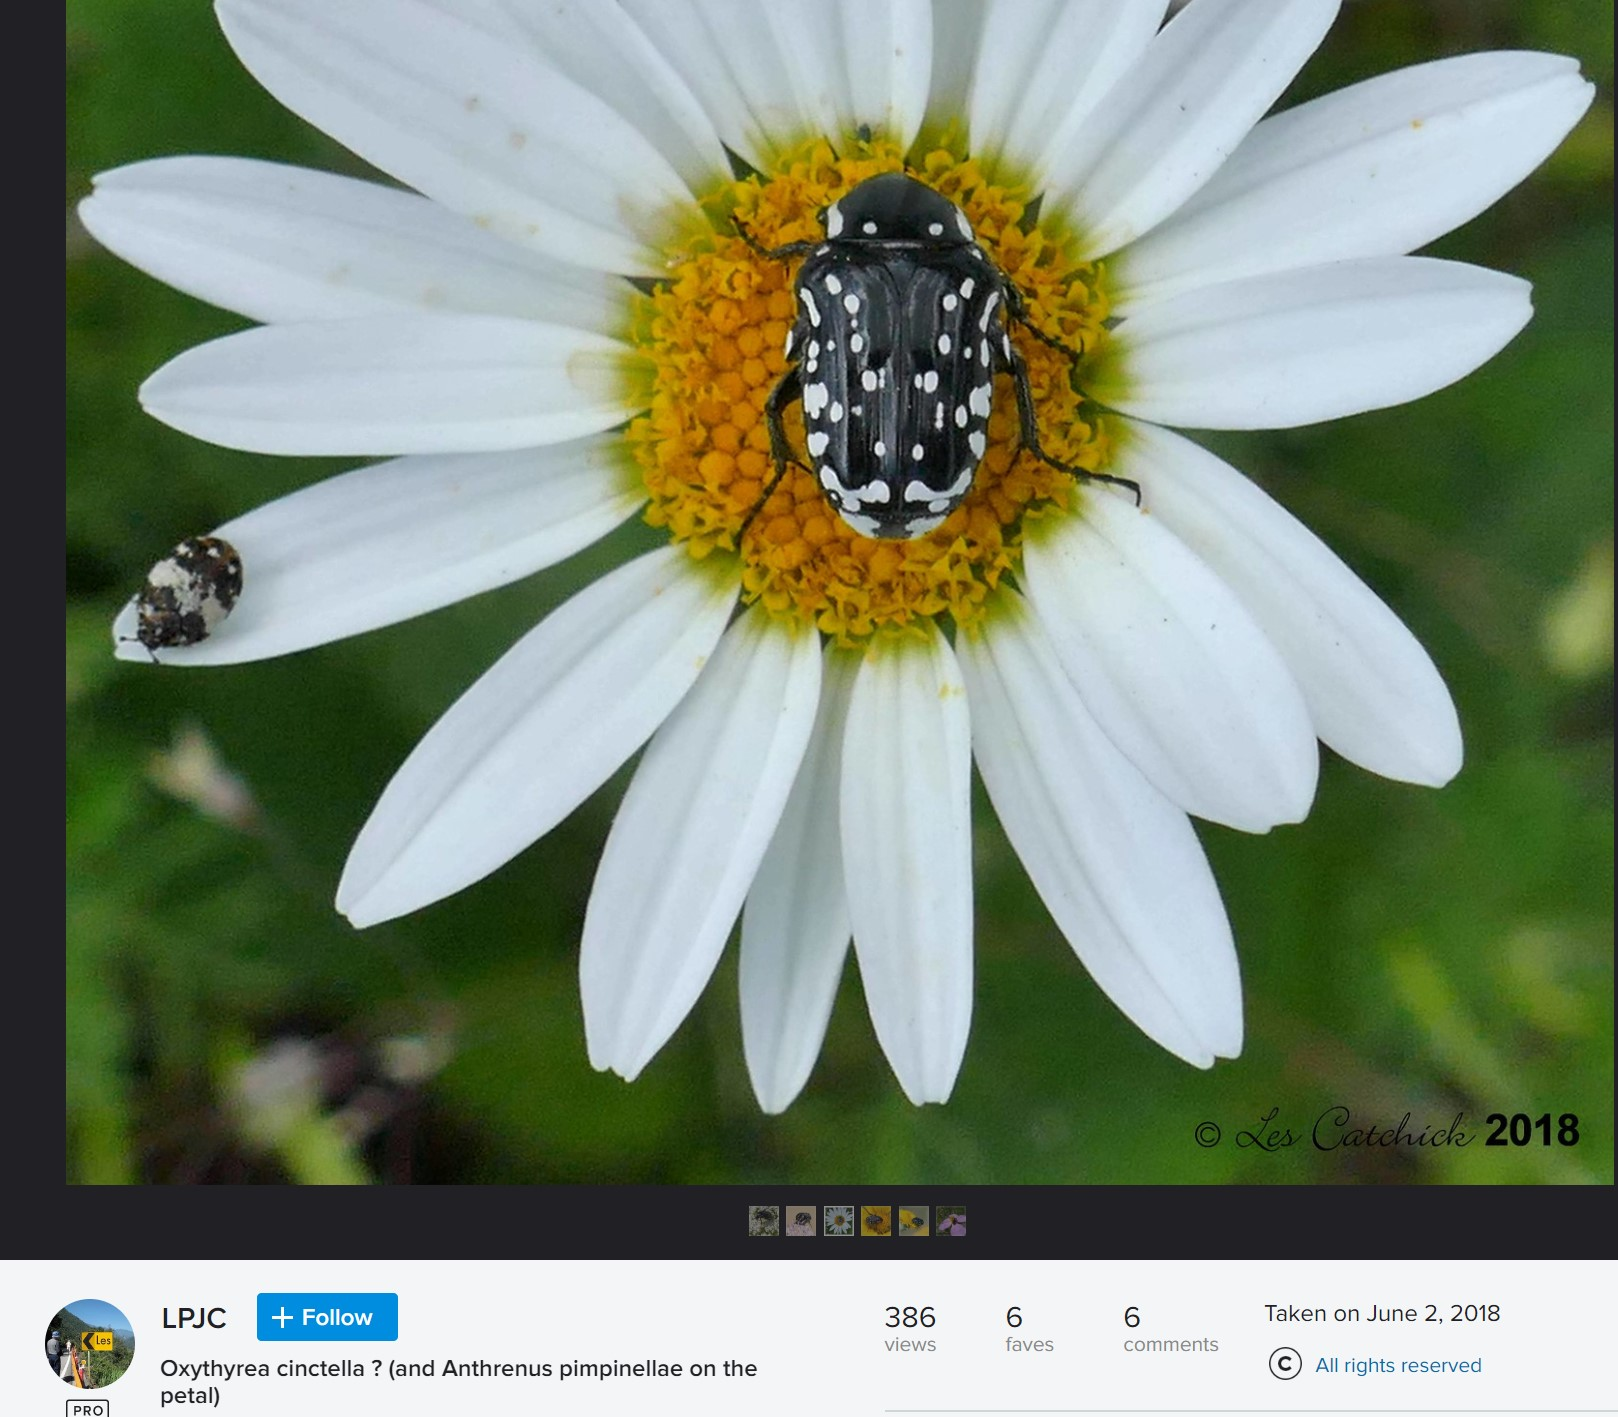Oxythyrea_cinctella: (713, 160, 1157, 563)
